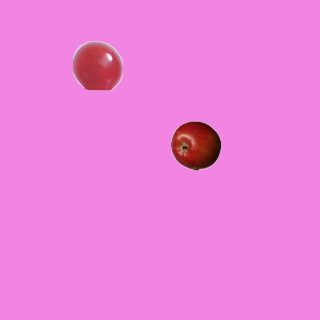Apple Braeburn: (170, 120, 220, 170)
Redcurrant: (72, 40, 122, 90)
